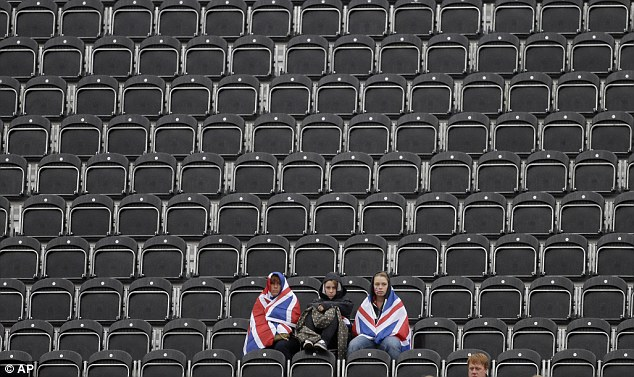Person: (243, 271, 301, 354), (349, 271, 409, 351), (295, 272, 353, 351)
